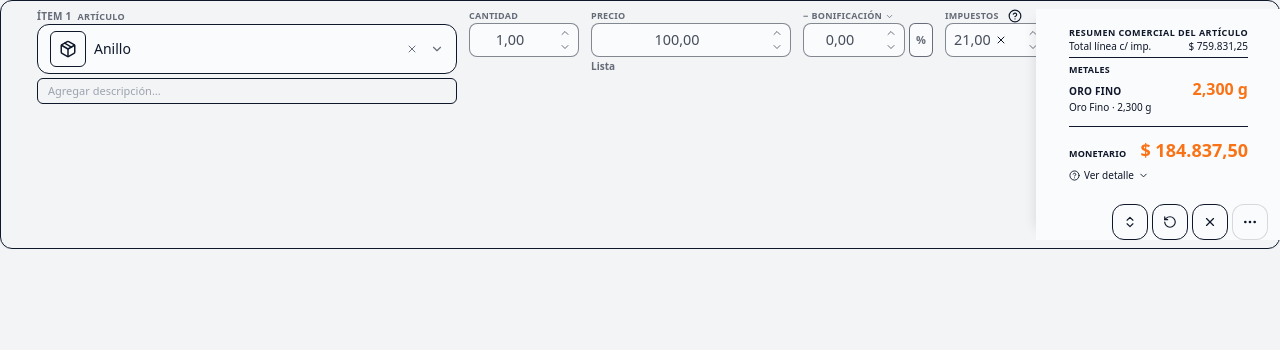
Card Resumen comercial del artículo — dominio ARTÍCULO en MIXED › la fila 'Redondeo comercial metal' muestra el AUTÓNOMO (2.650), nunca el prorrateo (675)
Click the button "Ver detalle": (1109, 175) x1=1069 y1=169 x2=1149 y2=182
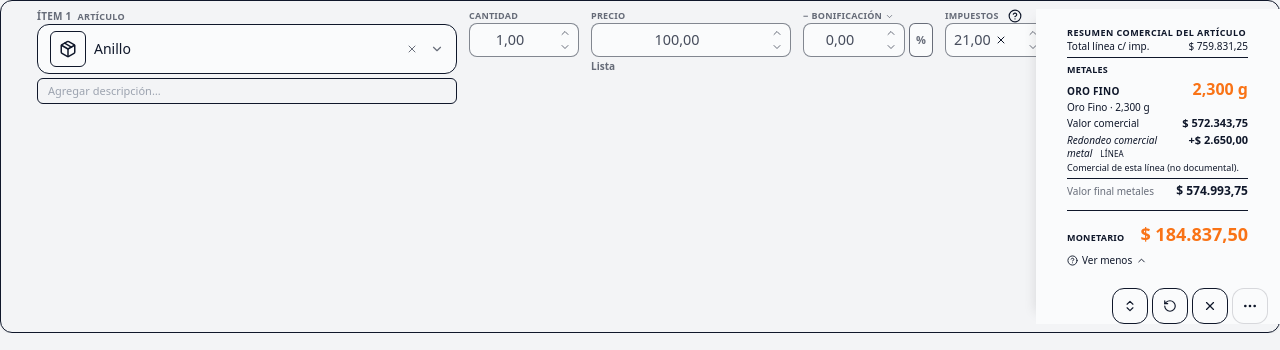
Expected: the text "+$ 2.650,00" is shown, x1=1188 y1=133 x2=1248 y2=147
